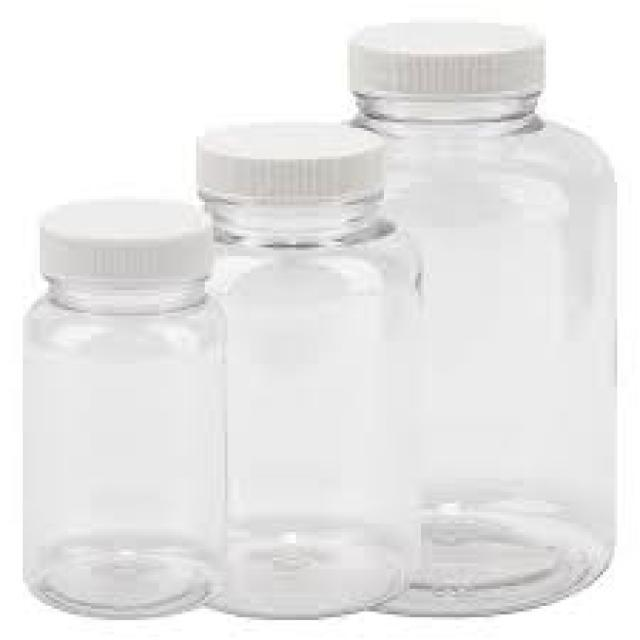Glass: (342, 108, 618, 624), (201, 202, 427, 622), (18, 292, 230, 620)
